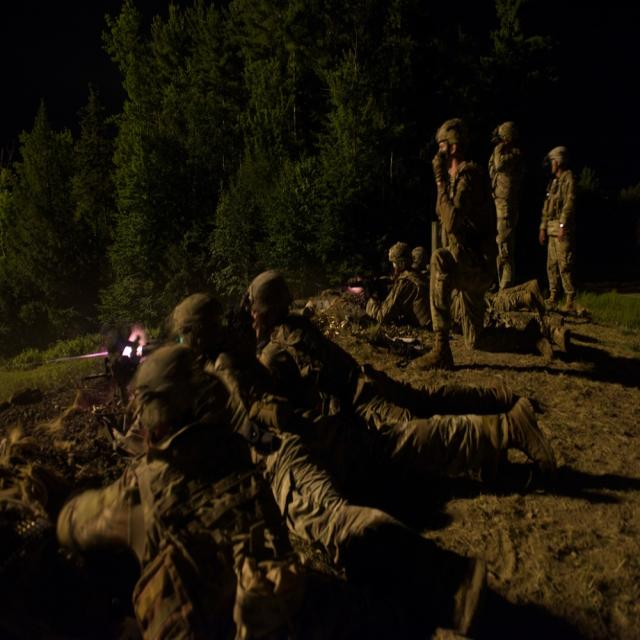Forest: (0, 0, 639, 635)
Militant: (152, 258, 476, 640), (239, 240, 567, 499), (45, 364, 308, 634), (419, 113, 494, 360), (538, 114, 600, 351), (486, 91, 544, 343)
